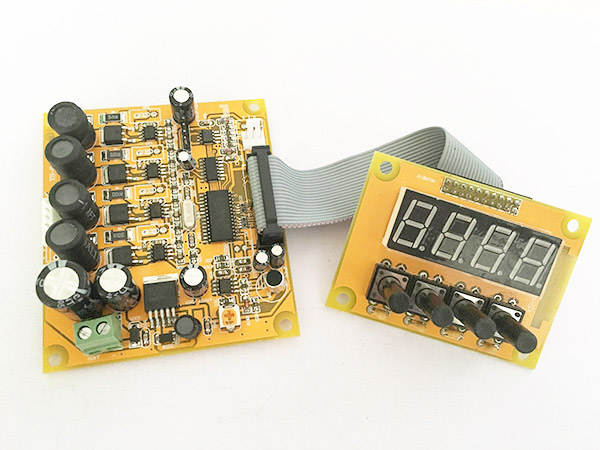capacitor: (35, 260, 98, 321), (44, 135, 96, 182), (95, 263, 141, 312), (45, 219, 96, 261), (49, 180, 97, 223), (48, 102, 95, 139), (171, 86, 195, 123), (179, 265, 207, 296), (174, 315, 201, 340), (252, 249, 270, 271), (270, 245, 286, 268)
